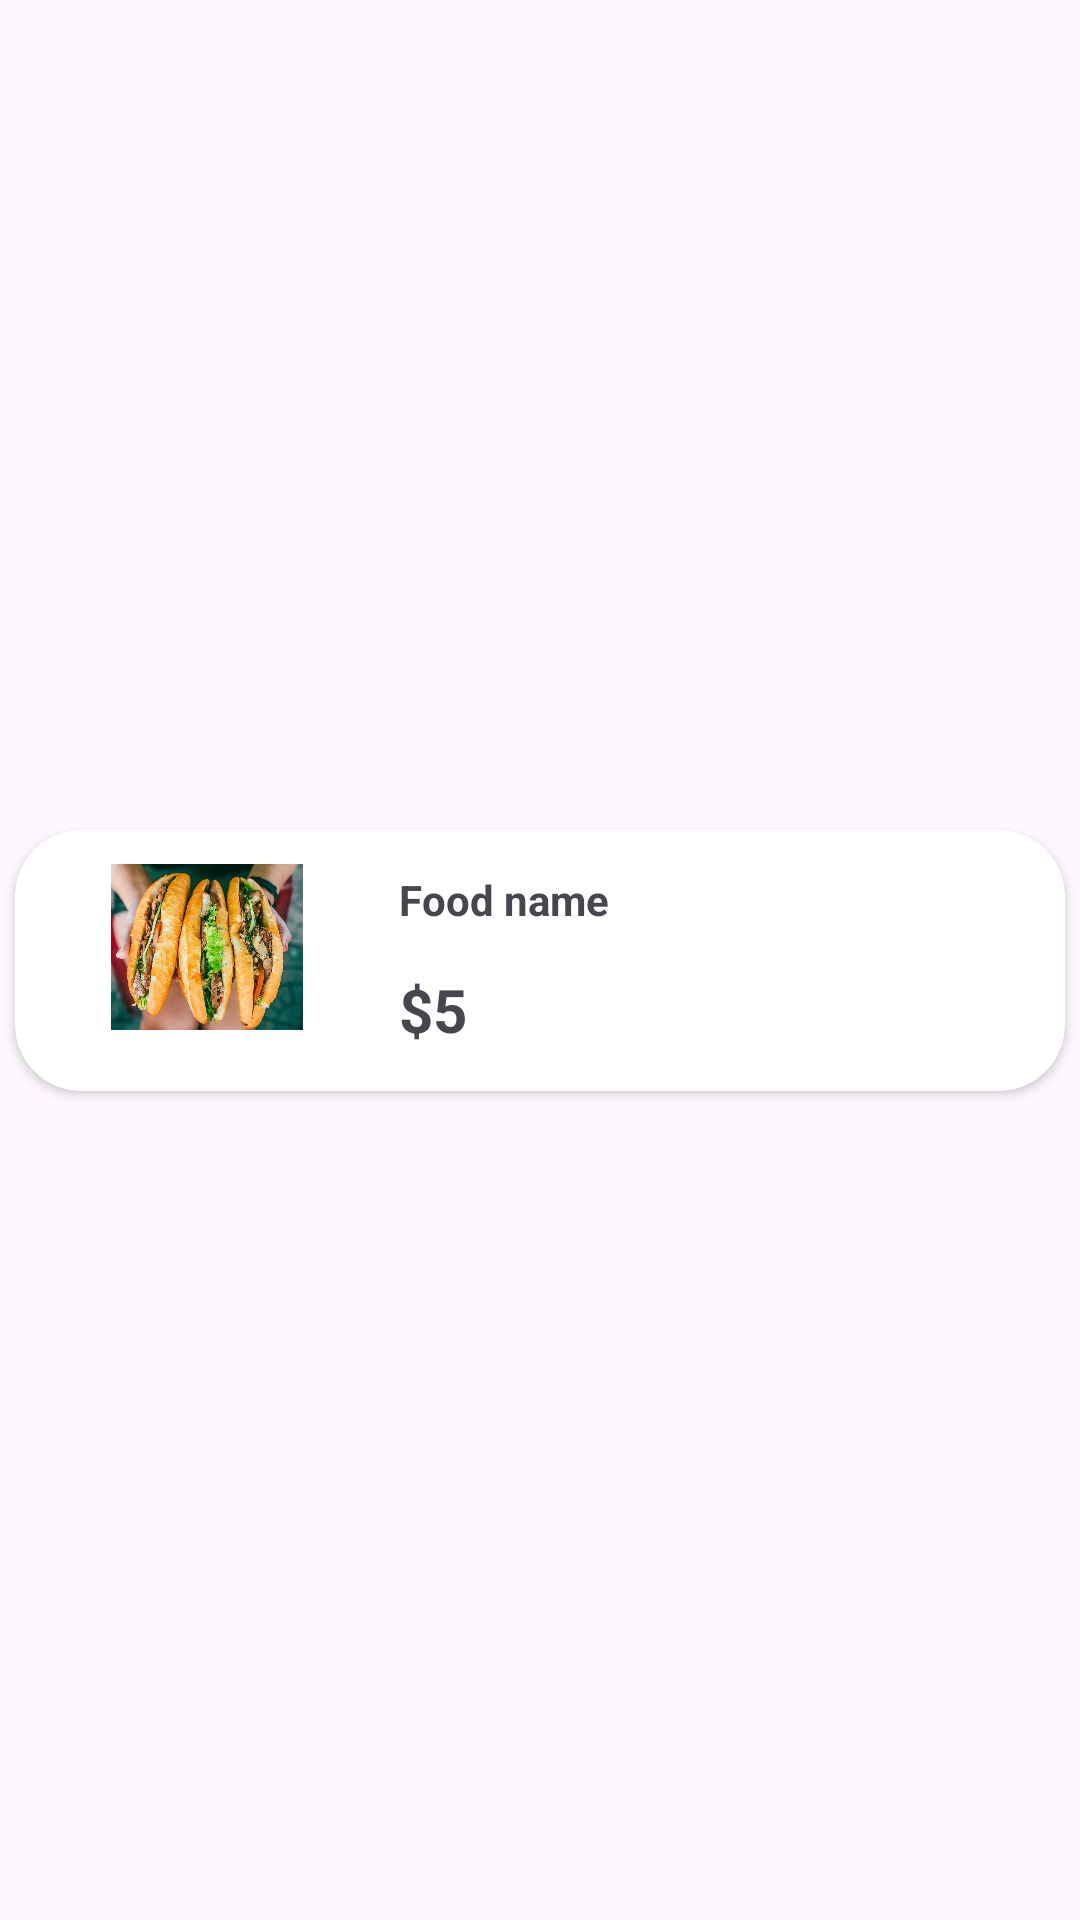

Screen size 1080×1920. Icon name, then its center in pixels as (x=x, y=y):
banhmi: (x=207, y=947)
